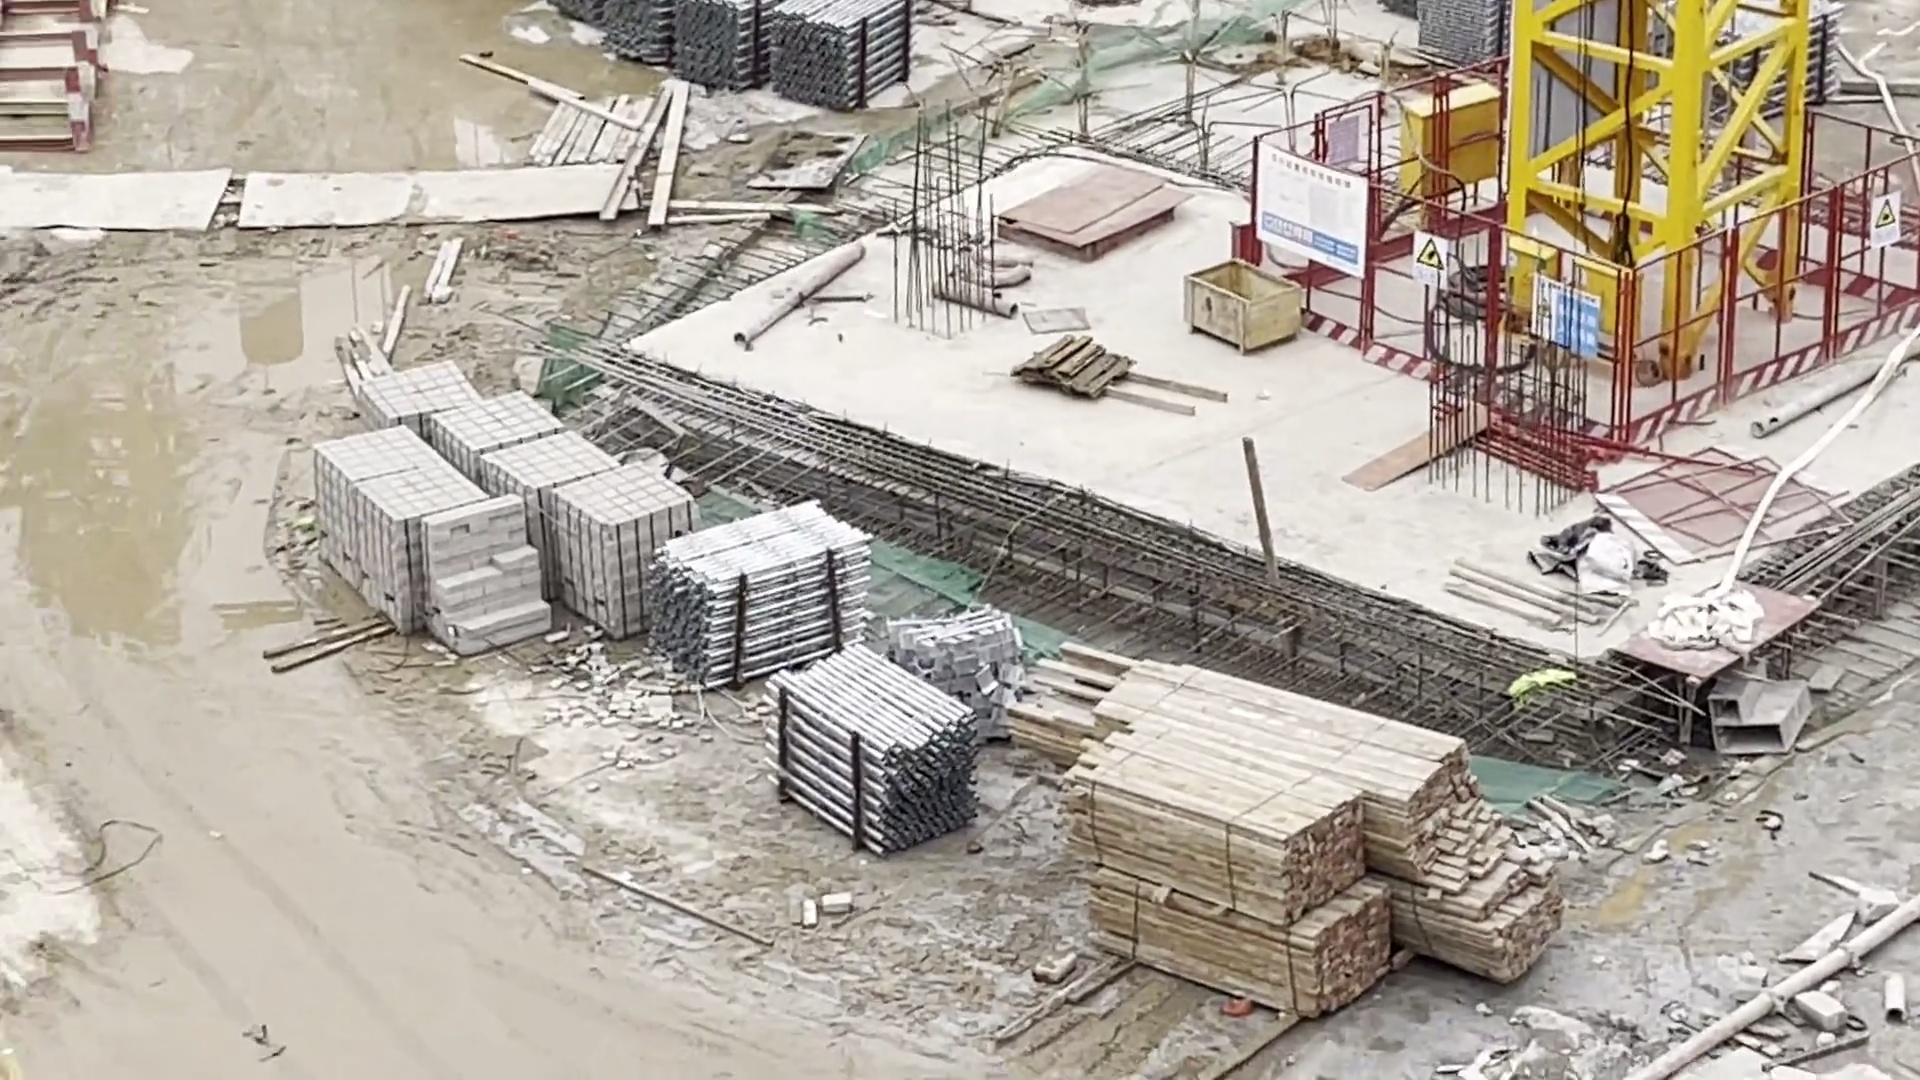brick: (313, 425, 535, 644), (549, 463, 680, 626), (443, 396, 582, 465), (487, 434, 618, 502), (364, 360, 484, 414)
ebox: (1396, 98, 1535, 214)
fence: (1242, 66, 1920, 502)
scaffold: (744, 651, 994, 862), (640, 527, 874, 680), (775, 1, 907, 113), (679, 1, 770, 91), (603, 1, 670, 61)
slogan: (1258, 135, 1386, 287), (1535, 272, 1642, 409), (1874, 189, 1902, 265), (1411, 220, 1444, 281)
wood: (1036, 622, 1610, 1023)
